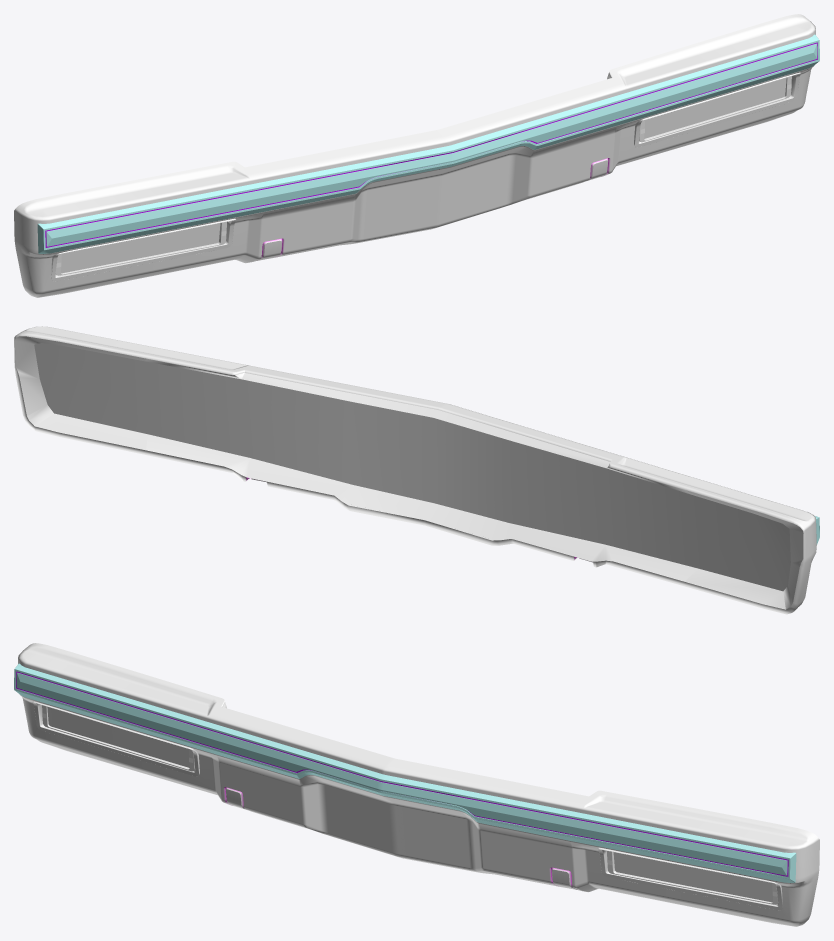
The model's file is Car_Buick_GrandNational_1987_BumperF_SetA_AltA.fbx.
3 views of the same model, one above another, from view 1: azimuth 30°, elevation 25°; view 2: azimuth 150°, elevation 25°; view 3: azimuth 330°, elevation 25° (orthographic).
Parts seen in each view (by area): view 1: BumperF 6; view 2: BumperF 6; view 3: BumperF 6.
Part boxes in pixels (x1=…): BumperF 6: x1=14, y1=14, x2=819, y2=297; BumperF 6: x1=14, y1=326, x2=819, y2=614; BumperF 6: x1=14, y1=643, x2=819, y2=926.
Bounding box in the file's own units: 1.72 × 0.23 × 0.169.
